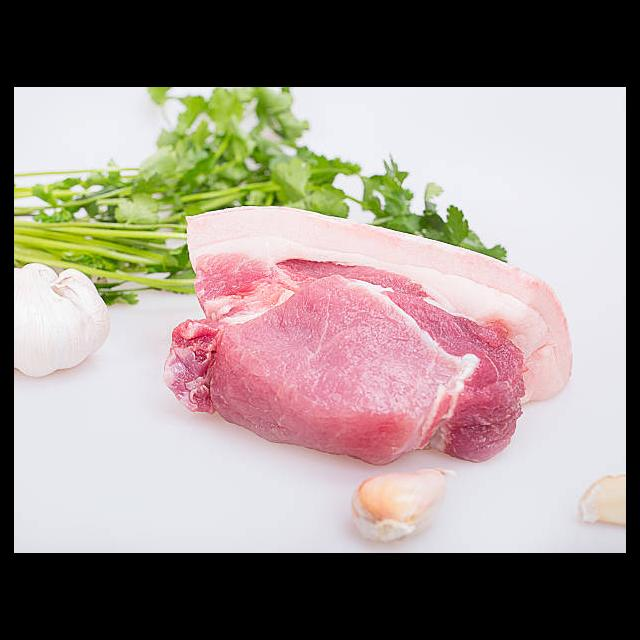pork: (184, 207, 557, 457)
